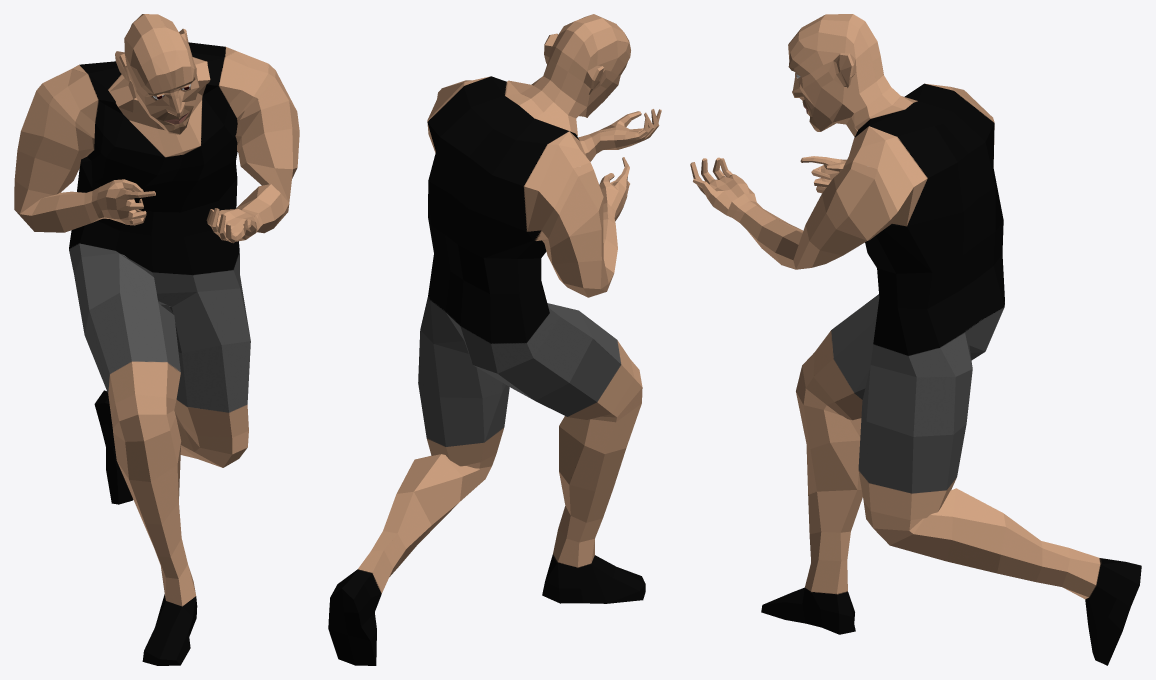
The model's file is PlayerWalk(4).obj.
3 renders of one model, left to right at view 1: azimuth 30°, elevation 25°; view 2: azimuth 150°, elevation 25°; view 3: azimuth 270°, elevation 25°, orthographic. The views are drawn at different scales.
Visible parts, largest first — view 1: Plane002; view 2: Plane002; view 3: Plane002.
Boxes of the visible parts, <box> form: Plane002: <box>14,14,299,665</box>; Plane002: <box>328,14,661,665</box>; Plane002: <box>690,14,1141,665</box>.
Bounding box in the file's own units: 591 × 1546 × 1043.
